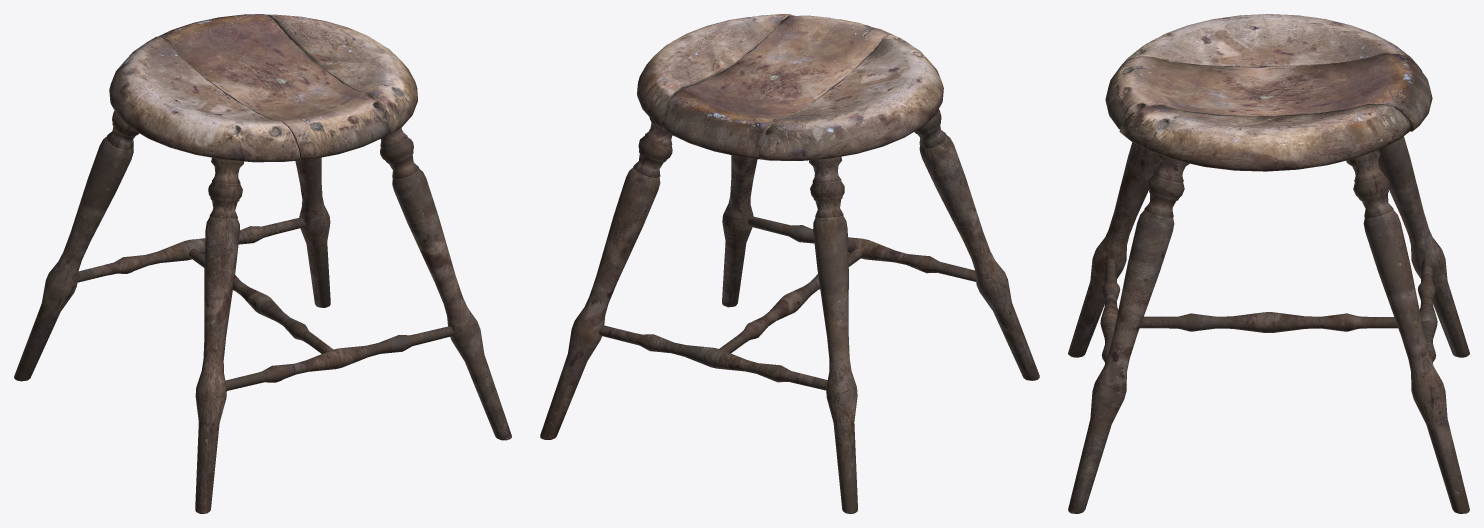
File: wooden_stool_01.glb
3 renders of one model, left to right at view 1: azimuth 30°, elevation 25°; view 2: azimuth 150°, elevation 25°; view 3: azimuth 270°, elevation 25°, orthographic. The views are drawn at different scales.
Parts seen in each view (by area): view 1: wooden_stool_01; view 2: wooden_stool_01; view 3: wooden_stool_01.
Part boxes in pixels (box(x1,y1,x2,y2)): wooden_stool_01: box(14, 14, 511, 513); wooden_stool_01: box(540, 14, 1039, 513); wooden_stool_01: box(1068, 14, 1469, 513).
Bounding box in the file's own units: 0.4253 × 0.4375 × 0.4421.
1 material, 1 textured.
